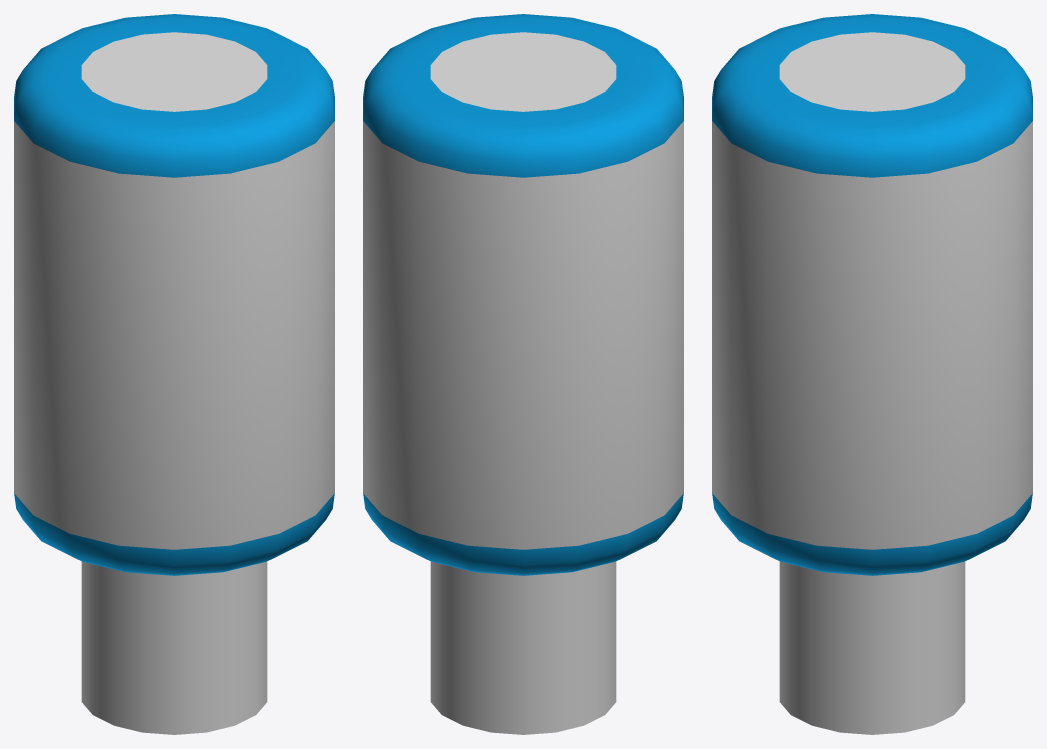
The model's file is CylinderBarrier_MESH.fbx.
3 views of the same model, side by side, from view 1: azimuth 30°, elevation 25°; view 2: azimuth 150°, elevation 25°; view 3: azimuth 270°, elevation 25° (orthographic).
Parts seen in each view (by area): view 1: Barrier_MESH; view 2: Barrier_MESH; view 3: Barrier_MESH.
Boxes of the visible parts, x1,y1,x2,y2 form: Barrier_MESH: (14,14,334,734); Barrier_MESH: (363,14,683,734); Barrier_MESH: (712,14,1032,734).
Size of the model in its own units: 18.46 by 38.95 by 18.18.
